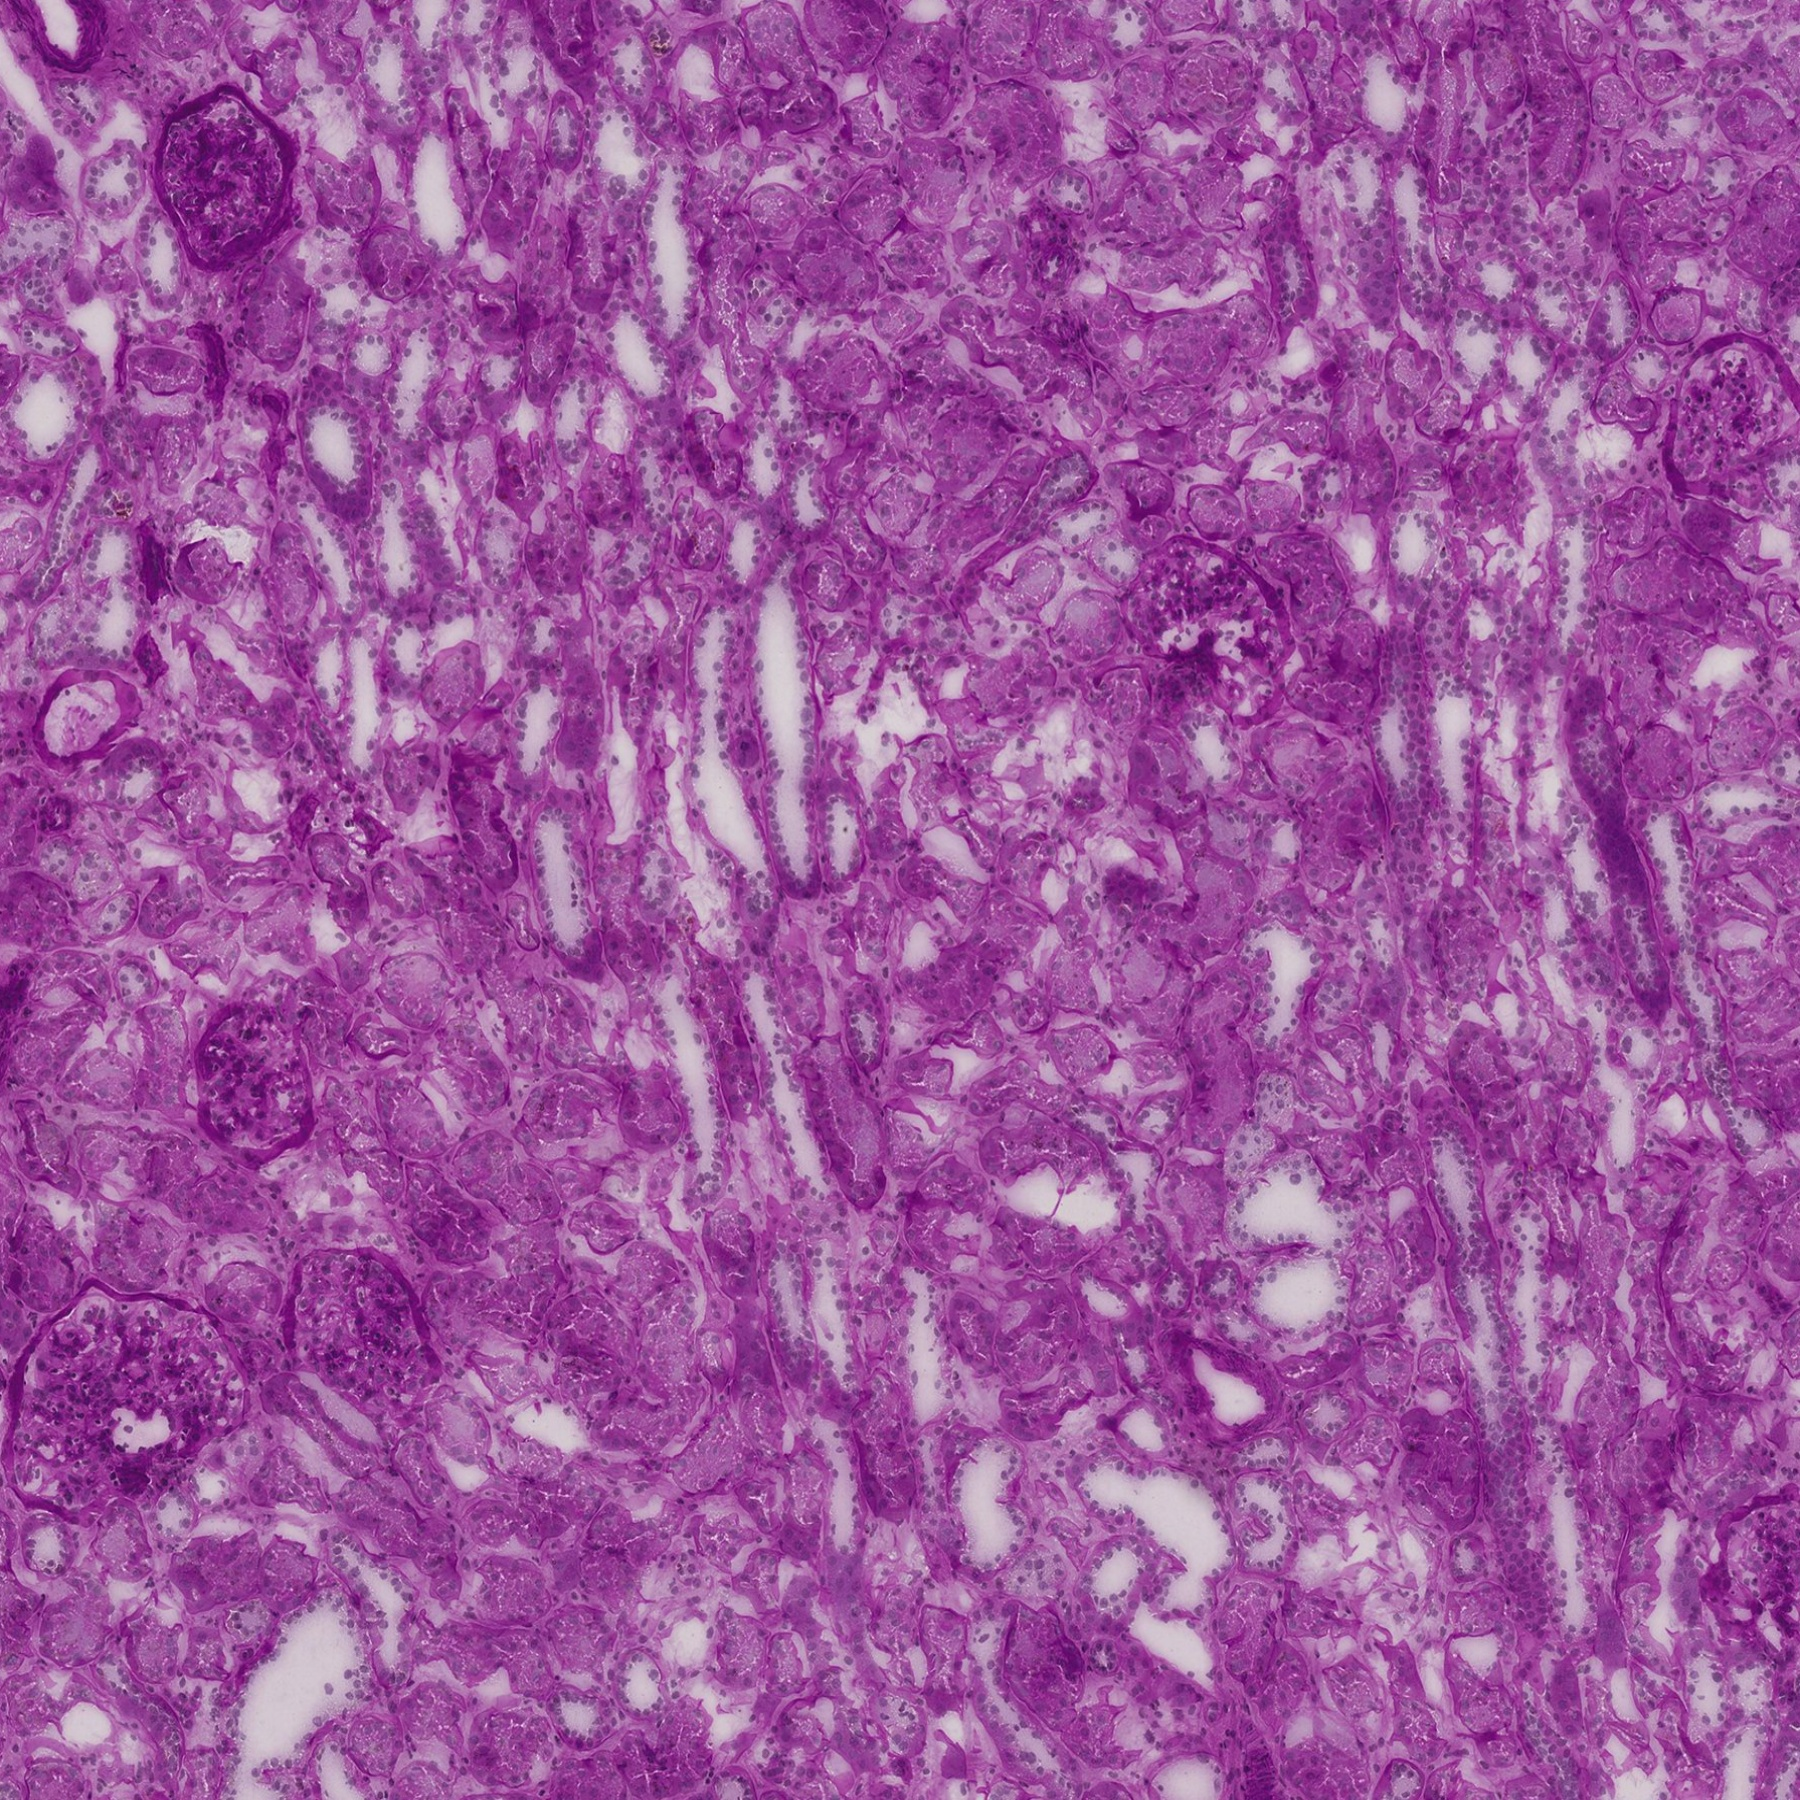Glomeruli: (3, 1281, 249, 1531), (1113, 532, 1302, 715), (279, 1245, 442, 1434), (147, 84, 303, 279), (1657, 328, 1800, 527), (190, 1005, 316, 1169), (1726, 1488, 1795, 1663)
